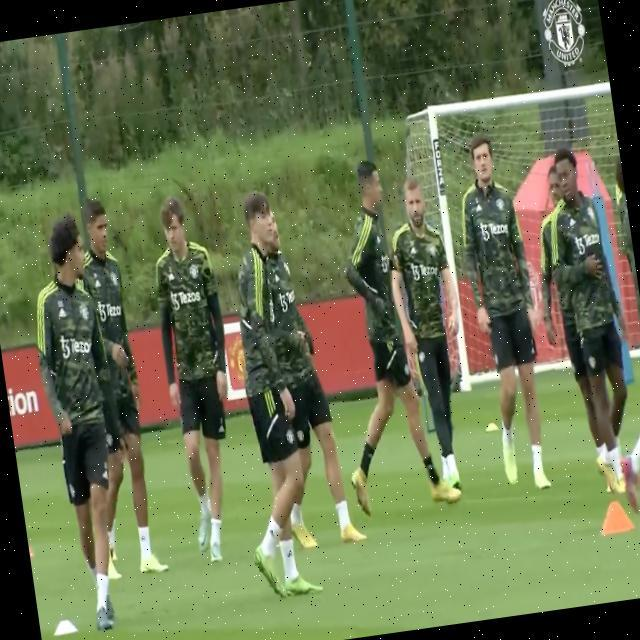Adidas: (58, 307, 68, 320), (568, 215, 577, 229), (285, 546, 294, 560)
